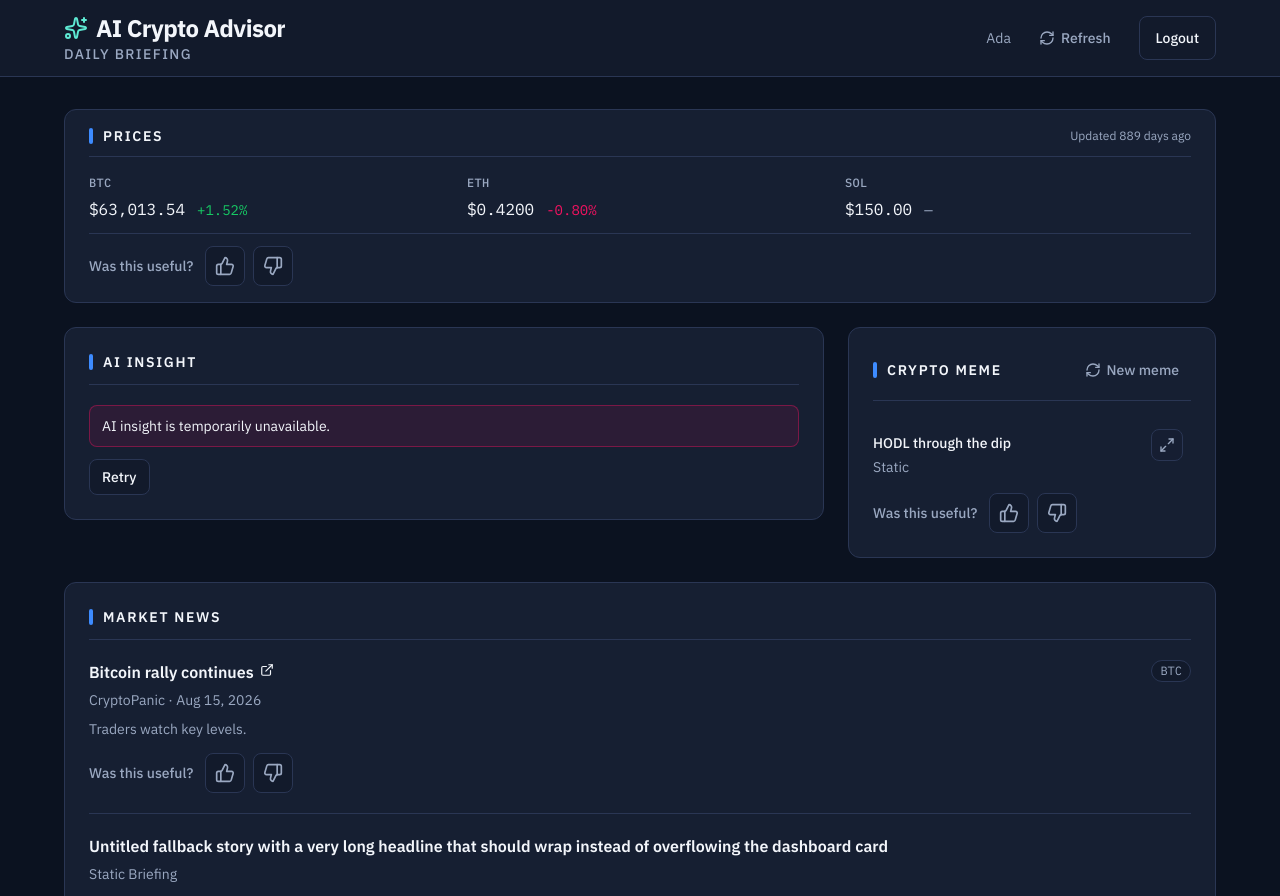
it: AI insight › shows a friendly 502 state with Retry
Expected: the text "AI insight is temporarily unavailable." is shown, [89, 405, 799, 447]
Click the button "Retry" at [119, 477], box [89, 459, 150, 495]
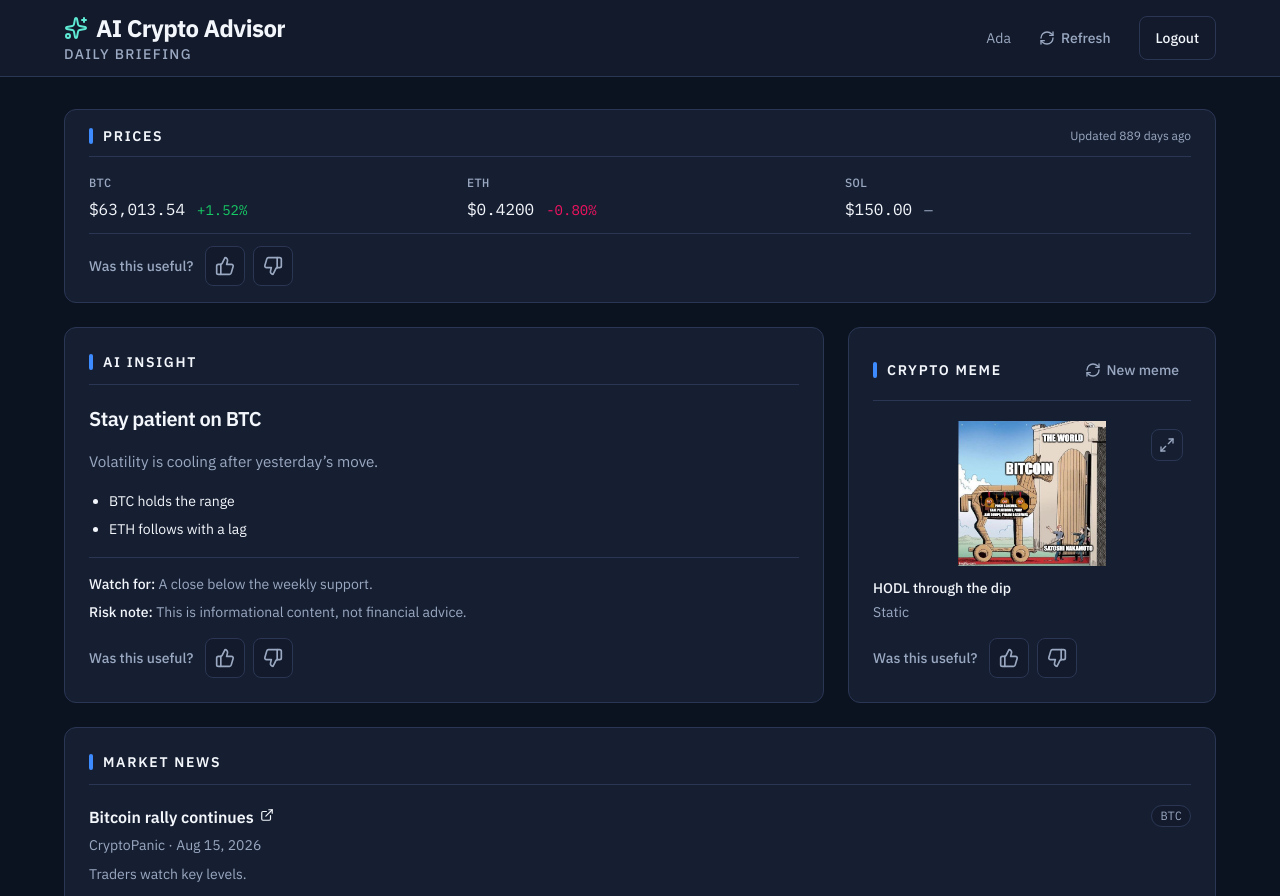
Expected: the heading "Stay patient on BTC" is shown, [89, 405, 261, 432]
